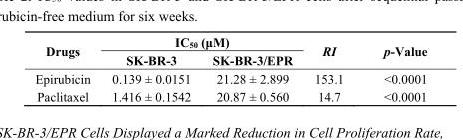table: (34, 34, 426, 103)
table column: (100, 34, 201, 103), (201, 34, 302, 103), (34, 34, 100, 103), (363, 34, 426, 103), (302, 34, 363, 103)
table column header: (34, 34, 426, 69)
table row: (34, 50, 426, 69), (34, 69, 426, 87), (34, 34, 426, 50), (34, 87, 426, 103)
table spanning cell: (100, 34, 302, 50), (34, 34, 100, 69), (363, 34, 426, 69), (302, 34, 363, 69)
